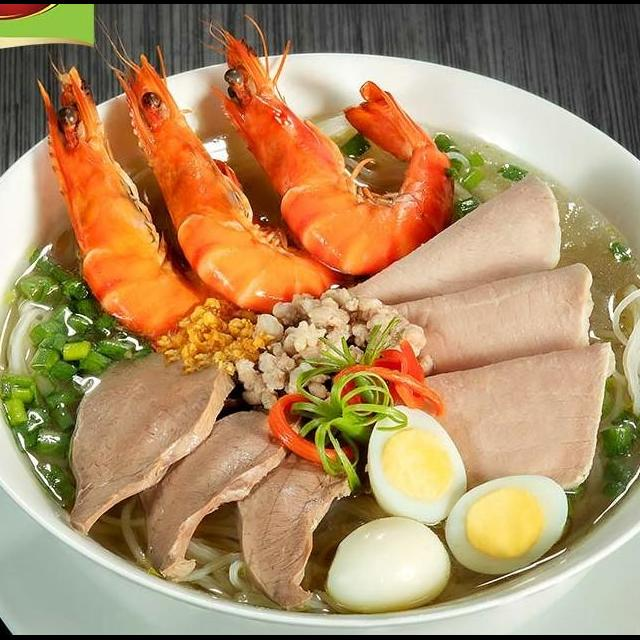banh hu tieu: (582, 277, 640, 440)
hu tieu: (0, 39, 640, 626), (175, 502, 282, 624), (0, 294, 90, 409)
thit bam: (215, 278, 438, 426)
thit heo: (332, 164, 569, 324), (390, 338, 621, 498), (367, 255, 603, 392)
tom: (88, 31, 352, 320), (194, 9, 460, 292), (26, 40, 265, 352)
trung: (439, 469, 572, 584), (319, 512, 456, 616), (365, 402, 471, 532)
